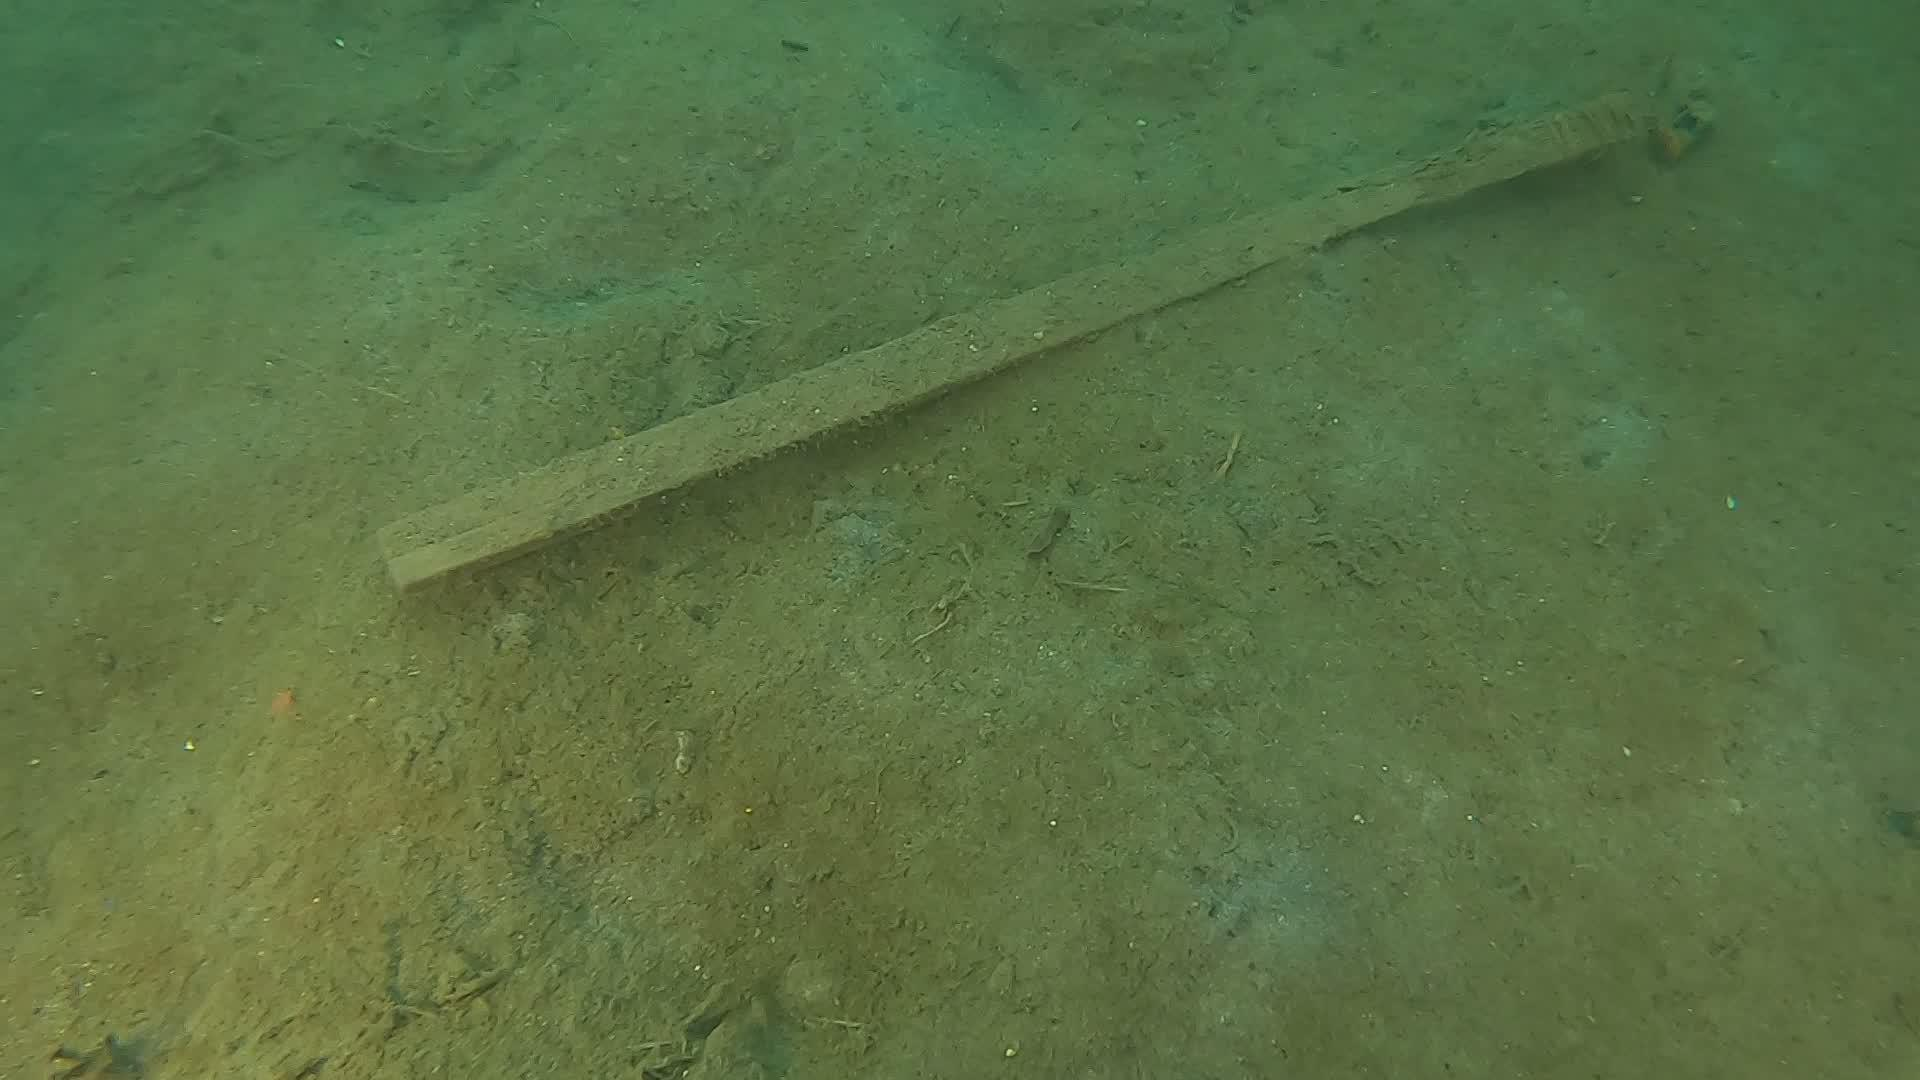wood: (375, 88, 1644, 593)
